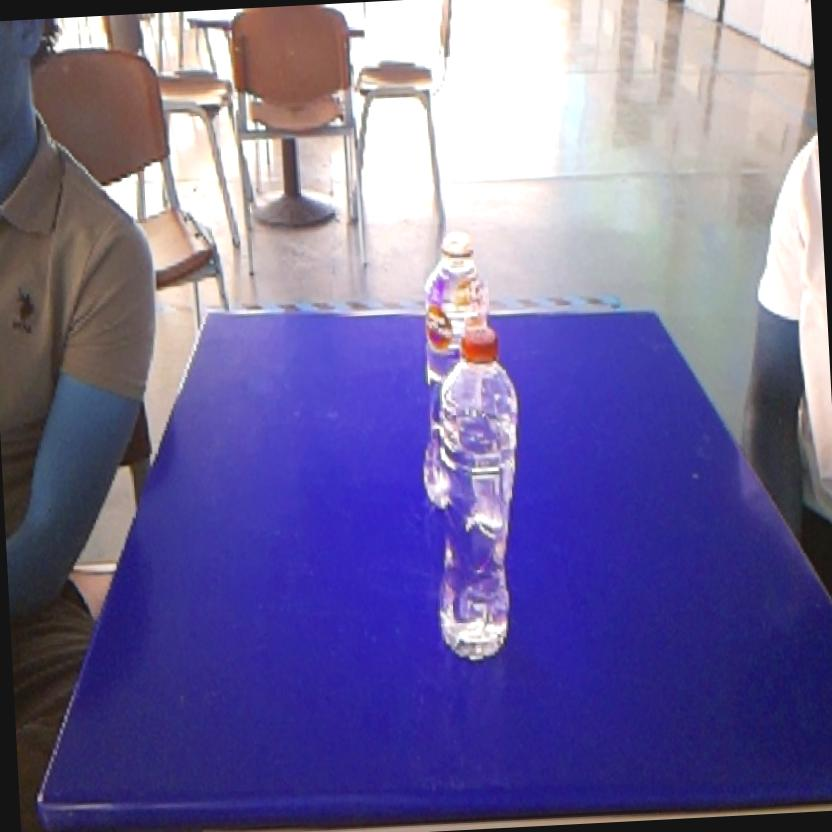no_cap: (412, 222, 501, 322)
no_label: (418, 322, 536, 670)
